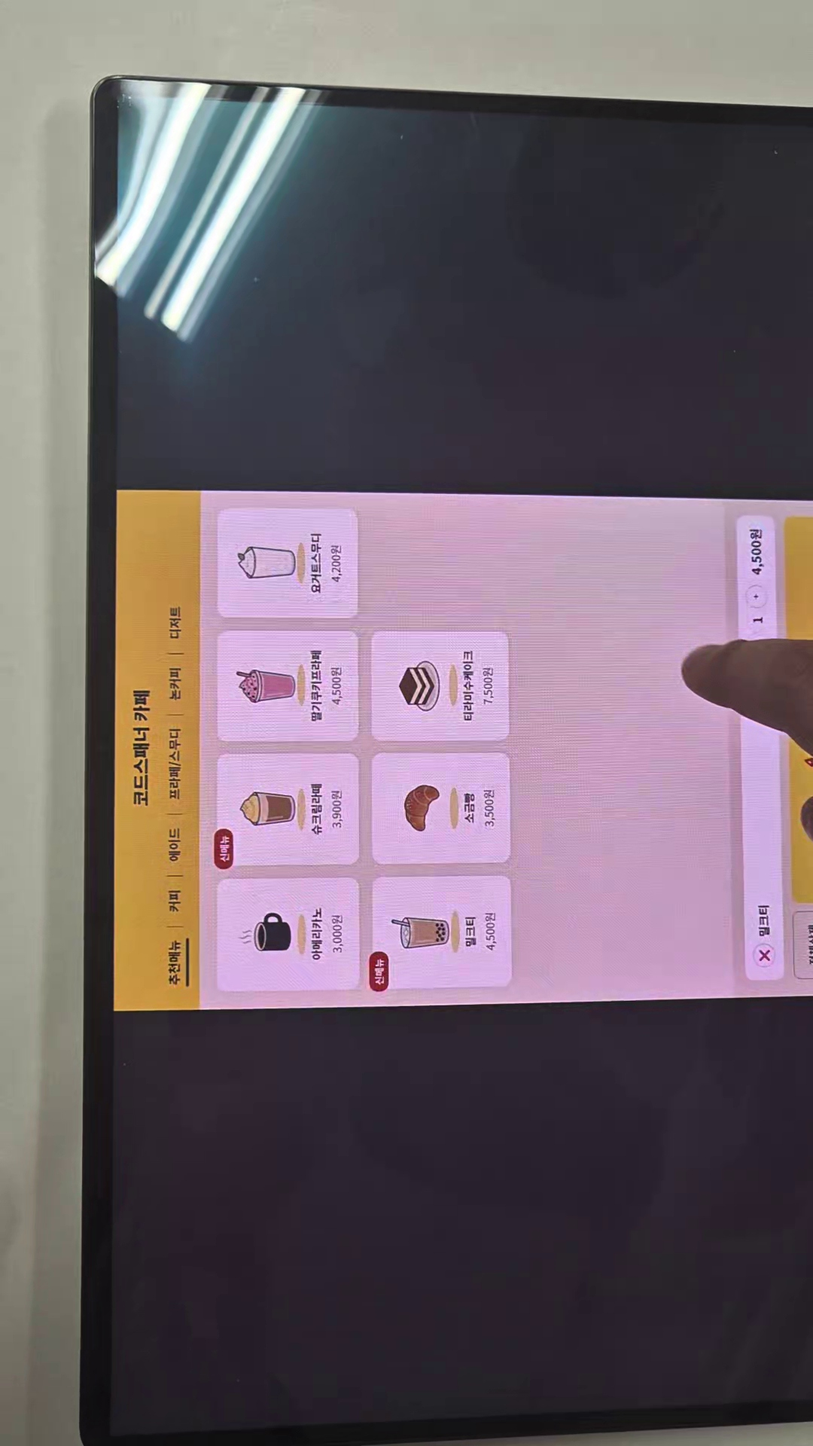cart_item: (737, 515, 784, 980)
category_tab: (164, 725, 184, 803), (163, 936, 185, 988), (165, 826, 185, 866), (165, 602, 185, 641), (165, 663, 184, 703), (164, 886, 185, 916)
menu_back: (214, 753, 360, 869), (368, 876, 512, 991), (217, 878, 360, 992), (217, 630, 360, 742), (217, 508, 359, 618), (372, 752, 511, 864), (371, 631, 510, 740)
menu_name: (308, 647, 324, 723), (461, 648, 476, 723), (308, 530, 325, 596), (309, 781, 324, 837), (309, 906, 324, 962), (461, 790, 477, 825), (463, 914, 478, 949)
menu_price: (329, 912, 346, 954), (482, 909, 498, 953), (480, 664, 496, 707), (329, 788, 345, 830), (328, 665, 344, 706), (481, 787, 497, 828), (328, 543, 343, 585)
